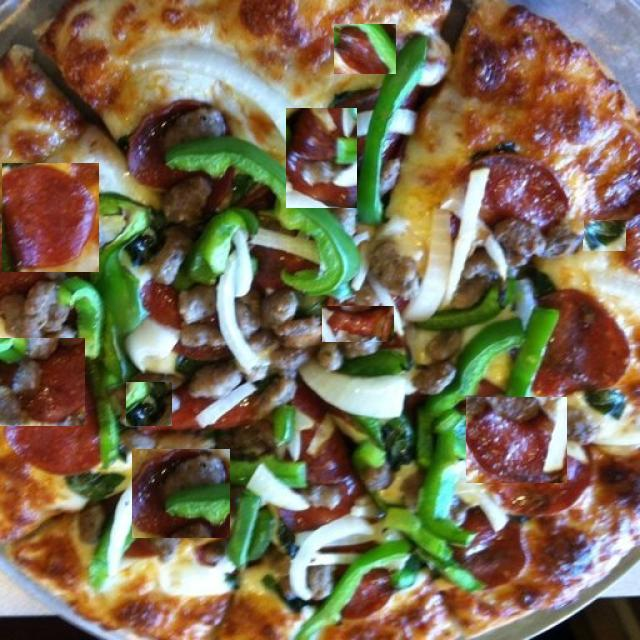olive: (126, 382, 172, 427), (584, 220, 626, 251)
pepperoni: (534, 239, 632, 350), (2, 163, 99, 272), (486, 121, 595, 207), (132, 449, 230, 538), (466, 397, 567, 483), (0, 338, 85, 426), (286, 108, 357, 208), (320, 476, 388, 547), (334, 24, 396, 74), (322, 306, 394, 342)
pizza: (0, 0, 640, 640)
